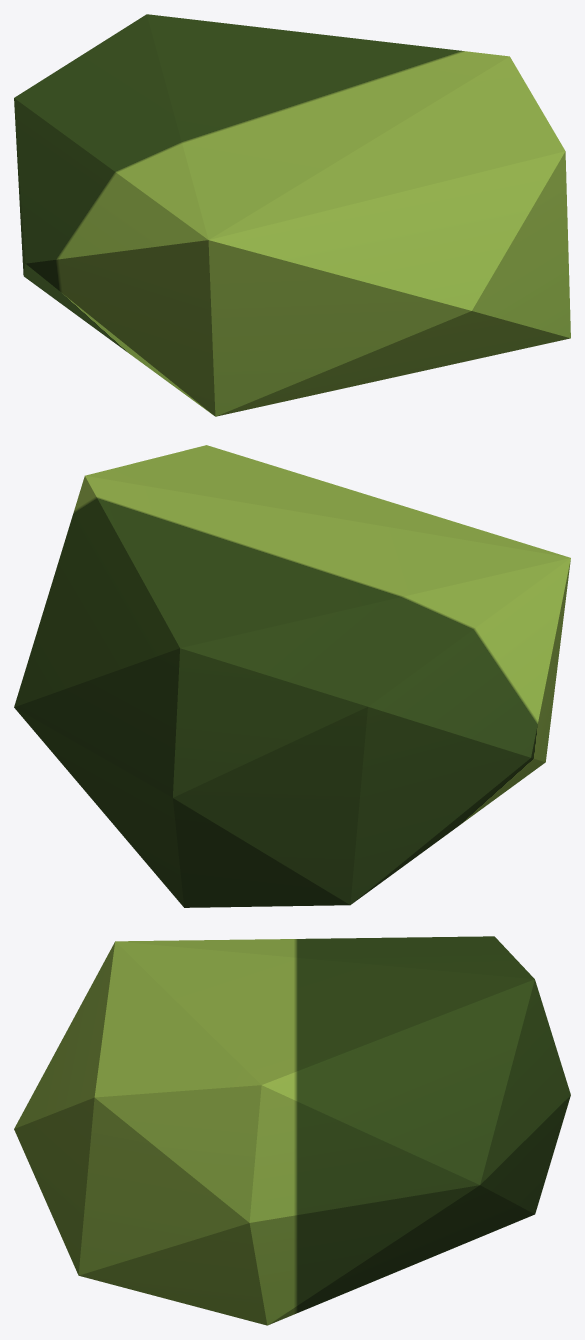
Rendered from Rock_17.fbx.
3 renders of one model, top to bottom at view 1: azimuth 30°, elevation 25°; view 2: azimuth 150°, elevation 25°; view 3: azimuth 270°, elevation 25°, orthographic. The views are drawn at different scales.
Parts seen in each view (by area): view 1: Rock_17; view 2: Rock_17; view 3: Rock_17.
Part boxes in pixels (<box>): Rock_17: <box>14,14,570,416</box>; Rock_17: <box>14,445,570,907</box>; Rock_17: <box>14,936,570,1325</box>.
Bounding box in the file's own units: 1.59 × 0.7617 × 1.6.
